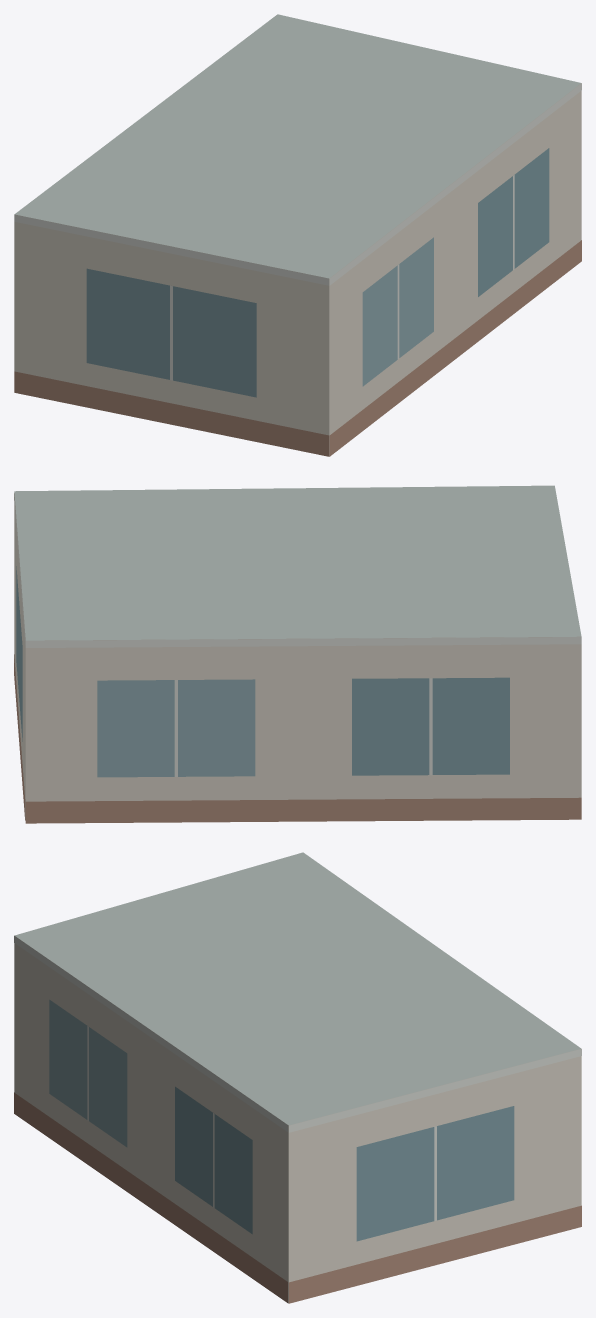
The model's file is survey-upis-32636028.glb.
3 renders of one model, top to bottom at view 1: azimuth 30°, elevation 25°; view 2: azimuth 150°, elevation 25°; view 3: azimuth 270°, elevation 25°, orthographic. The views are drawn at different scales.
Parts seen in each view (by area): view 1: survey-upis-32636028.tmp; view 2: survey-upis-32636028.tmp; view 3: survey-upis-32636028.tmp.
Boxes of the visible parts, box(x1,y1,x2,y2) form: survey-upis-32636028.tmp: box(14, 14, 581, 456); survey-upis-32636028.tmp: box(14, 485, 581, 823); survey-upis-32636028.tmp: box(14, 852, 581, 1303).
Size of the model in its own units: 10.04 by 3.05 by 8.82.
